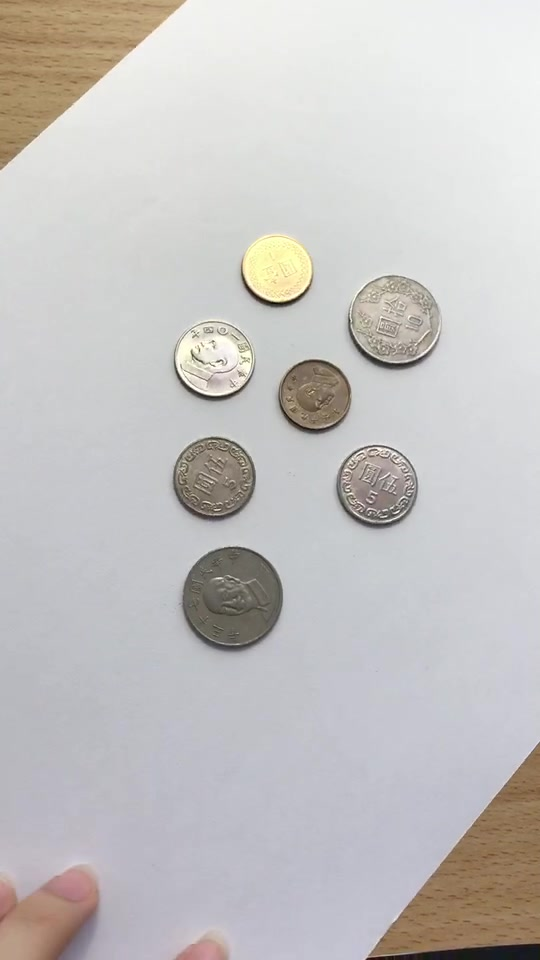1 dallar: (240, 225, 317, 308), (276, 354, 353, 437)
10 dallar: (176, 540, 290, 653), (341, 256, 455, 369)
5 dallar: (166, 309, 259, 406), (331, 437, 424, 534), (169, 427, 262, 524)
